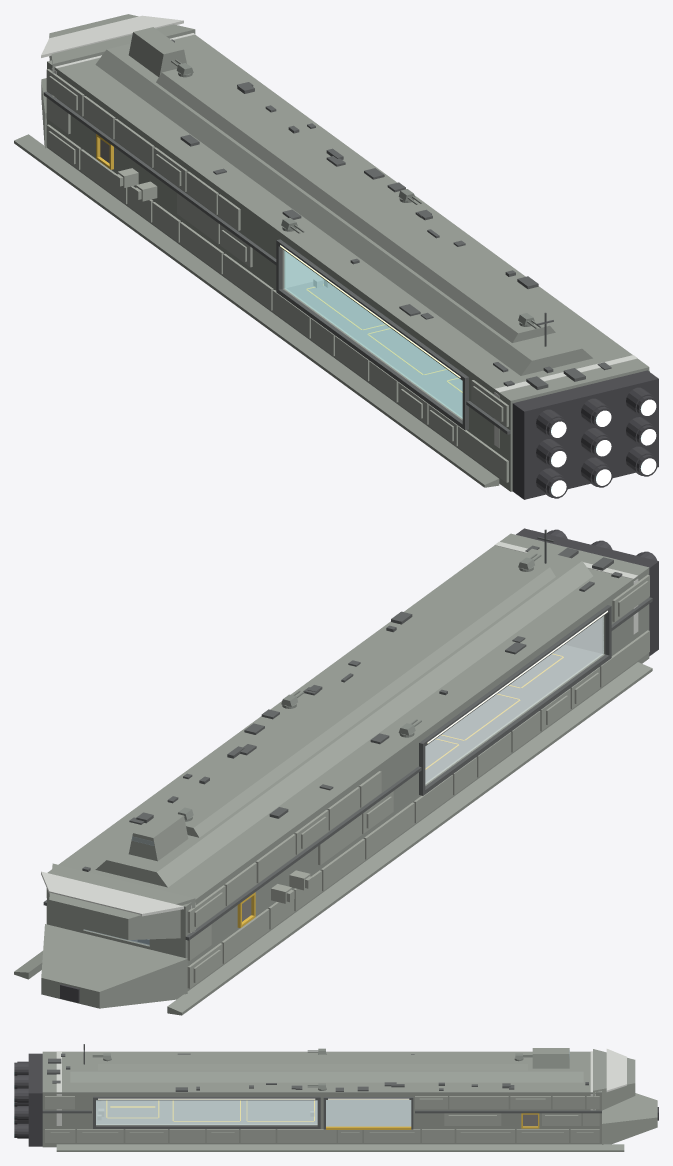
The model's file is ship_MEDIUM_v3.glb.
The picture shows the model from 3 angles, top to bottom: view 1: azimuth 30°, elevation 25°; view 2: azimuth 150°, elevation 25°; view 3: azimuth 270°, elevation 25°; orthographic projection. The views are drawn at different scales.
Parts seen in each view (by area): view 1: MEDIUM_Hull-col, MEDIUM_Armor, MEDIUM_Engines, MEDIUM_HangarShield_Port, MEDIUM_Trim, MEDIUM_Decks-col, MEDIUM_Accent, MEDIUM_Details, MEDIUM_EngineGlow, MEDIUM_Hazard, MEDIUM_Interior-col; view 2: MEDIUM_Hull-col, MEDIUM_Armor, MEDIUM_HangarShield_Port, MEDIUM_Decks-col, MEDIUM_Trim, MEDIUM_Accent, MEDIUM_Details, MEDIUM_Engines, MEDIUM_Interior-col, MEDIUM_Hazard; view 3: MEDIUM_Hull-col, MEDIUM_Armor, MEDIUM_HangarShield_Starboard, MEDIUM_Decks-col, MEDIUM_Trim, MEDIUM_Engines, MEDIUM_CargoBayShield, MEDIUM_CargoBayDoor-col, MEDIUM_Accent, MEDIUM_Hazard, MEDIUM_Details, MEDIUM_Lights (+1 smaller).
Boxes of the visible parts, box(x1,y1,x2,y2) form: MEDIUM_Hull-col: box(14, 14, 649, 491); MEDIUM_Armor: box(46, 69, 649, 482); MEDIUM_Engines: box(512, 370, 658, 499); MEDIUM_HangarShield_Port: box(284, 251, 462, 418); MEDIUM_Trim: box(43, 91, 510, 434); MEDIUM_Decks-col: box(286, 279, 462, 416); MEDIUM_Accent: box(41, 15, 637, 447); MEDIUM_Details: box(171, 39, 611, 389); MEDIUM_EngineGlow: box(551, 399, 656, 496); MEDIUM_Hazard: box(96, 134, 462, 392); MEDIUM_Interior-col: box(286, 252, 322, 287); MEDIUM_Hull-col: box(14, 533, 652, 1015); MEDIUM_Armor: box(46, 574, 649, 988); MEDIUM_HangarShield_Port: box(425, 616, 603, 784); MEDIUM_Decks-col: box(135, 645, 601, 941); MEDIUM_Trim: box(43, 597, 652, 940); MEDIUM_Accent: box(41, 541, 638, 932); MEDIUM_Details: box(82, 529, 622, 871); MEDIUM_Engines: box(60, 528, 658, 1002); MEDIUM_Interior-col: box(565, 617, 601, 653); MEDIUM_Hazard: box(237, 653, 563, 927); MEDIUM_Hull-col: box(42, 1048, 657, 1151); MEDIUM_Armor: box(45, 1096, 599, 1142); MEDIUM_HangarShield_Starboard: box(96, 1100, 317, 1124); MEDIUM_Decks-col: box(96, 1100, 317, 1124); MEDIUM_Trim: box(42, 1096, 601, 1129); MEDIUM_Engines: box(14, 1053, 658, 1146); MEDIUM_CargoBayShield: box(326, 1100, 411, 1126); MEDIUM_CargoBayDoor-col: box(326, 1100, 411, 1125); MEDIUM_Accent: box(56, 1049, 626, 1125); MEDIUM_Hazard: box(106, 1100, 539, 1129); MEDIUM_Details: box(47, 1044, 588, 1091); MEDIUM_Lights: box(98, 1098, 409, 1099).
Size of the model in its own units: 25.8 by 21.4 by 140.
